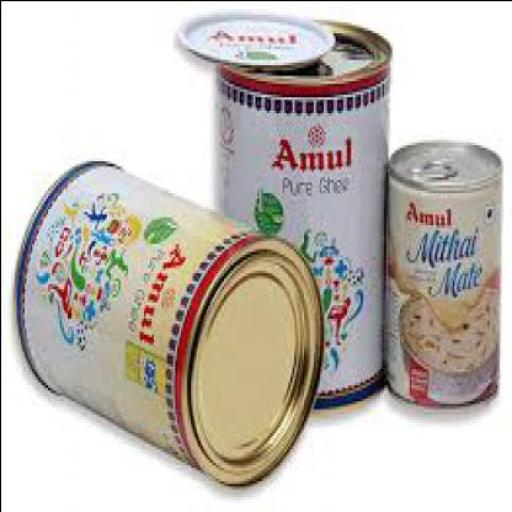metal: (12, 158, 320, 482), (215, 16, 387, 405), (383, 138, 498, 406), (170, 10, 332, 64)
